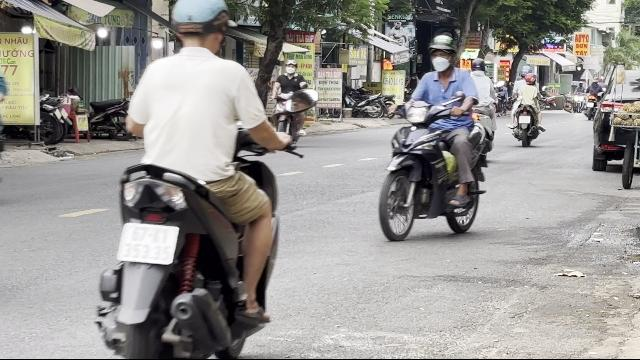helmet: (168, 0, 232, 54), (426, 34, 458, 72)
licenseplate: (117, 223, 179, 265)
motorcyclist: (92, 0, 296, 358), (377, 31, 498, 241)
